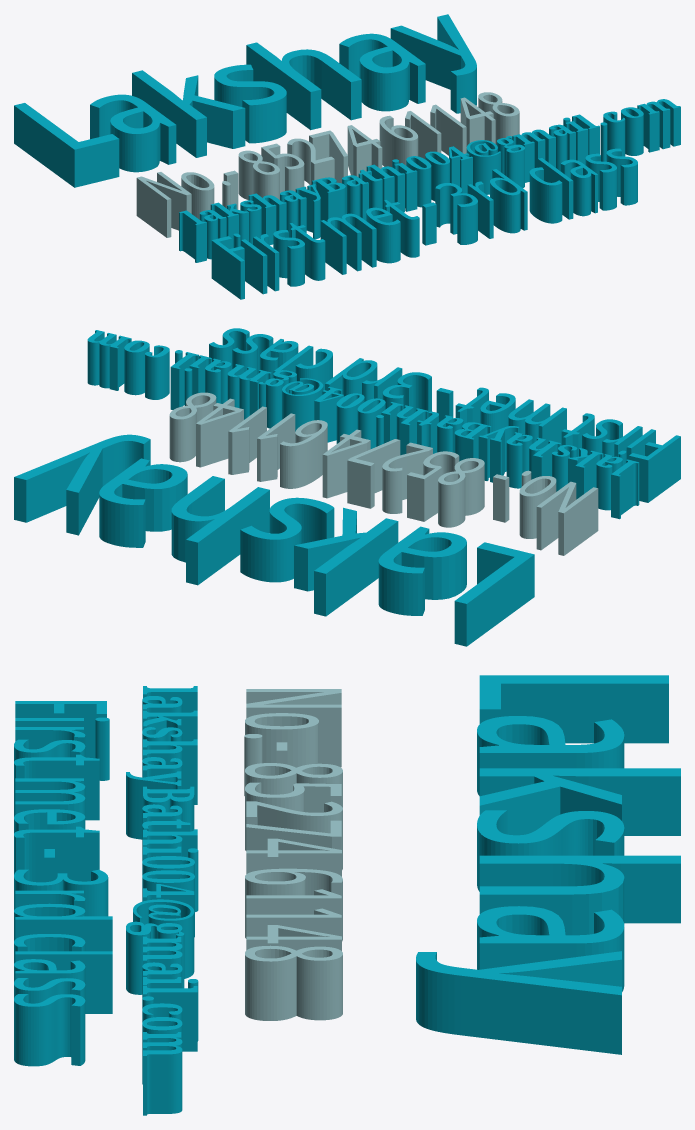
Rendered from info3.glb.
The picture shows the model from 3 angles, top to bottom: view 1: azimuth 30°, elevation 25°; view 2: azimuth 150°, elevation 25°; view 3: azimuth 270°, elevation 25°; orthographic projection. The views are drawn at different scales.
Visible parts, largest first — view 1: Mesh_Mesh_head_geo.001_lambert2SG.001; view 2: Mesh_Mesh_head_geo.001_lambert2SG.001; view 3: Mesh_Mesh_head_geo.001_lambert2SG.001.
Part boxes in pixels (x1=…): Mesh_Mesh_head_geo.001_lambert2SG.001: x1=14, y1=14, x2=680, y2=299; Mesh_Mesh_head_geo.001_lambert2SG.001: x1=14, y1=328, x2=680, y2=646; Mesh_Mesh_head_geo.001_lambert2SG.001: x1=14, y1=675, x2=680, y2=1115.
Size of the model in its own units: 137 by 12 by 101.
